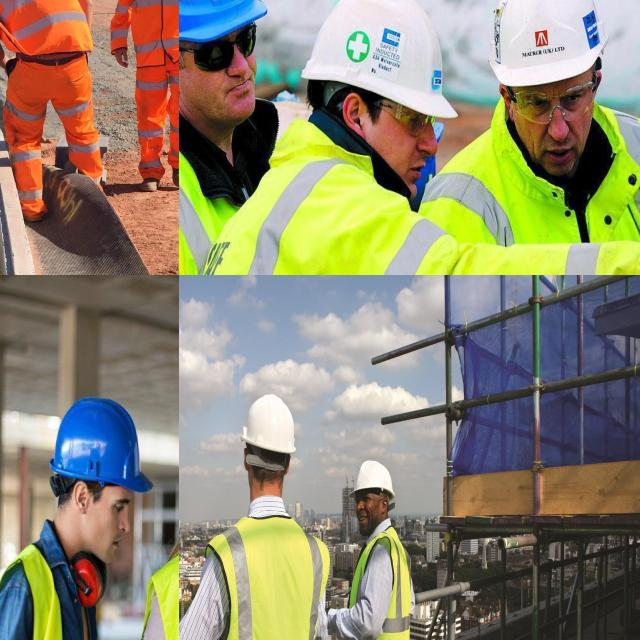No_Ear-Protection: (340, 87, 367, 138), (379, 494, 390, 516)
No_Glasses: (354, 491, 374, 508)
face_nomask: (365, 84, 450, 209), (520, 80, 610, 174), (198, 29, 258, 127), (78, 488, 135, 577)
glasses: (508, 77, 600, 126), (190, 20, 260, 73), (387, 96, 438, 134)
hand_noglove: (111, 40, 134, 75)
head_helmet: (298, 0, 460, 120), (49, 394, 154, 500), (487, 0, 609, 87), (241, 392, 296, 457), (347, 460, 396, 500)
person: (193, 0, 461, 275), (449, 0, 640, 275), (0, 397, 144, 640), (209, 411, 329, 640), (179, 0, 274, 275), (0, 0, 111, 220), (335, 463, 420, 640), (115, 0, 179, 194)
vest: (421, 99, 640, 275), (183, 115, 417, 275), (206, 513, 326, 640), (0, 553, 101, 640), (342, 528, 416, 640), (0, 0, 92, 59), (128, 0, 179, 69)
